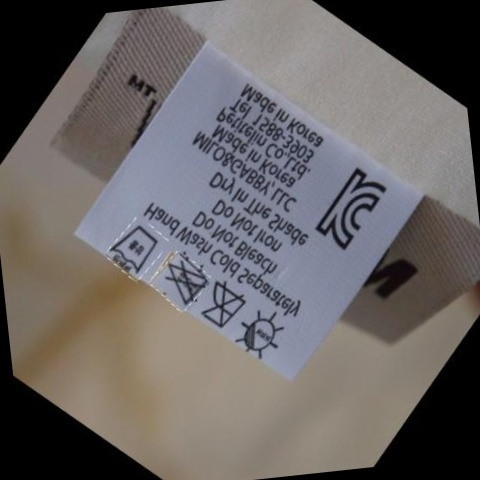DN_bleach: (163, 253, 207, 306)
DN_iron: (197, 282, 244, 328)
dry_flat_in_shade: (235, 308, 283, 359)
hand_wash: (106, 220, 165, 277)
